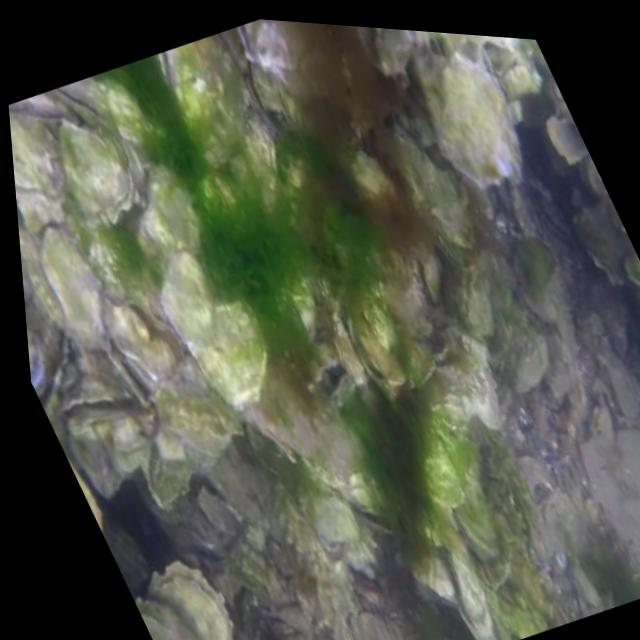Oyster-Closed: (155, 29, 244, 172), (159, 355, 244, 440), (149, 565, 236, 640), (107, 300, 181, 385), (345, 301, 406, 394), (9, 113, 66, 202), (448, 534, 491, 640), (246, 61, 298, 126), (113, 351, 156, 408), (411, 241, 445, 299)
Oyster-Indeterminate: (417, 49, 521, 187), (187, 297, 266, 406), (42, 229, 106, 347), (60, 123, 131, 219), (146, 161, 201, 253), (161, 250, 214, 342), (419, 419, 463, 504), (148, 434, 198, 507), (397, 538, 455, 600), (101, 521, 150, 593), (137, 600, 194, 640), (514, 333, 549, 389)
Oyster-Open: (303, 340, 355, 417), (62, 378, 140, 428), (237, 19, 293, 70), (27, 328, 46, 396)
